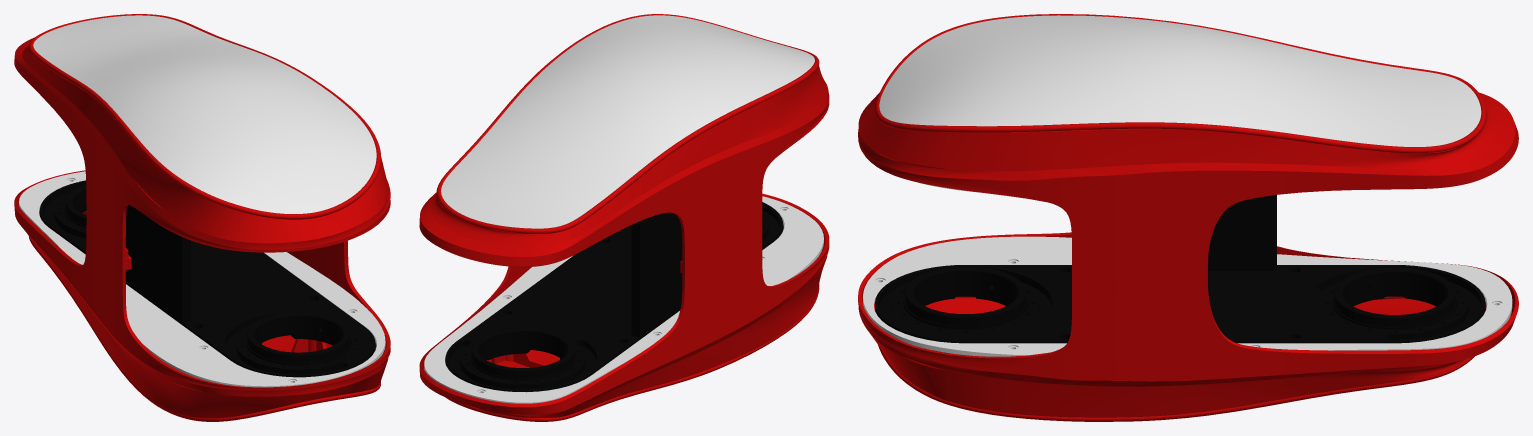
3 views of the same model, side by side, from view 1: azimuth 30°, elevation 25°; view 2: azimuth 150°, elevation 25°; view 3: azimuth 270°, elevation 25° (orthographic). The views are drawn at different scales.
Visible parts, largest first — view 1: link2; view 2: link2; view 3: link2.
Part boxes in pixels (left/top/right/bottom): link2: left=14, top=14, right=390, bottom=421; link2: left=419, top=14, right=829, bottom=421; link2: left=858, top=14, right=1518, bottom=421.
Bounding box in the file's own units: 0.2442 × 0.3061 × 0.5466.
